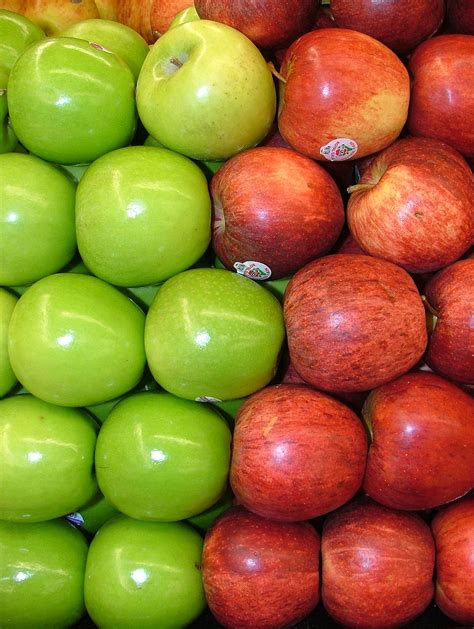apple: (71, 134, 215, 283), (264, 25, 411, 161), (131, 20, 278, 155), (209, 141, 348, 280), (348, 367, 474, 513), (339, 135, 474, 266)
